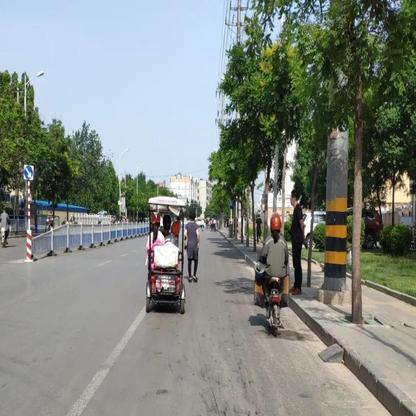target: (253, 214, 299, 336)
